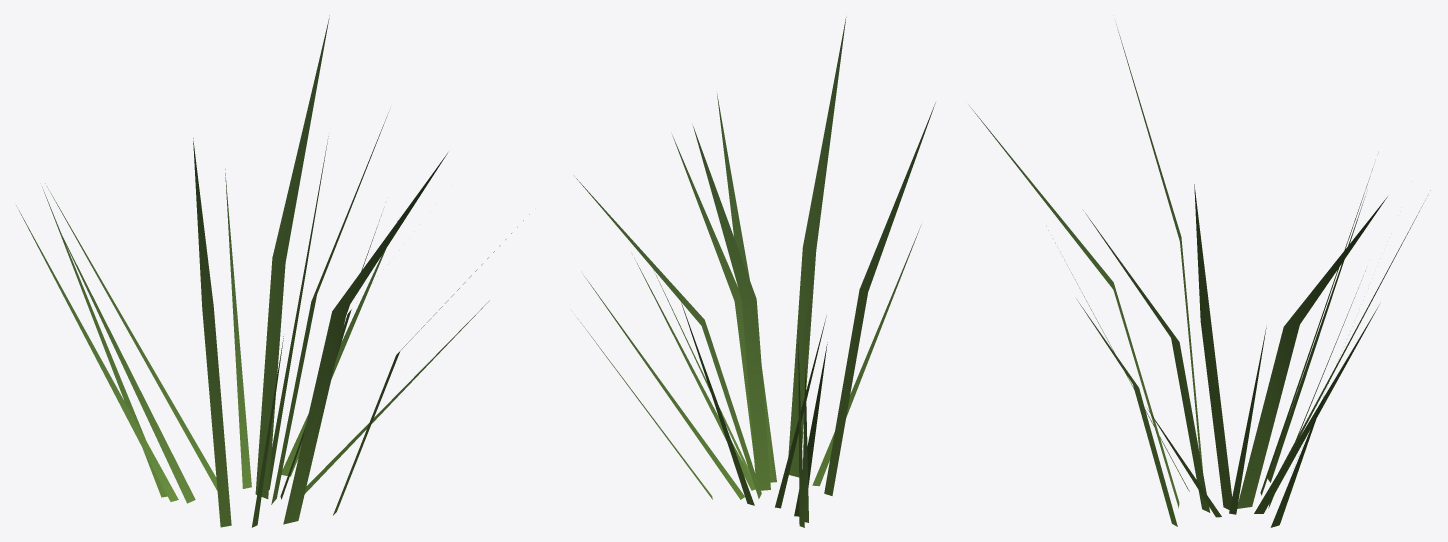
Rendered from forest_grass_001_b_LOD2.gltf.
The picture shows the model from 3 angles, left to right: view 1: azimuth 30°, elevation 25°; view 2: azimuth 150°, elevation 25°; view 3: azimuth 270°, elevation 25°; orthographic projection. The views are drawn at different scales.
Parts seen in each view (by area): view 1: forest_grass_001_b_LOD2; view 2: forest_grass_001_b_LOD2; view 3: forest_grass_001_b_LOD2.
Boxes of the visible parts, box(x1,y1,x2,y2) form: forest_grass_001_b_LOD2: box(16, 15, 529, 527); forest_grass_001_b_LOD2: box(574, 17, 935, 527); forest_grass_001_b_LOD2: box(969, 24, 1430, 527).
Size of the model in its own units: 0.6979 by 0.8668 by 0.8565.
Materials: 1 (1 with a texture image).
